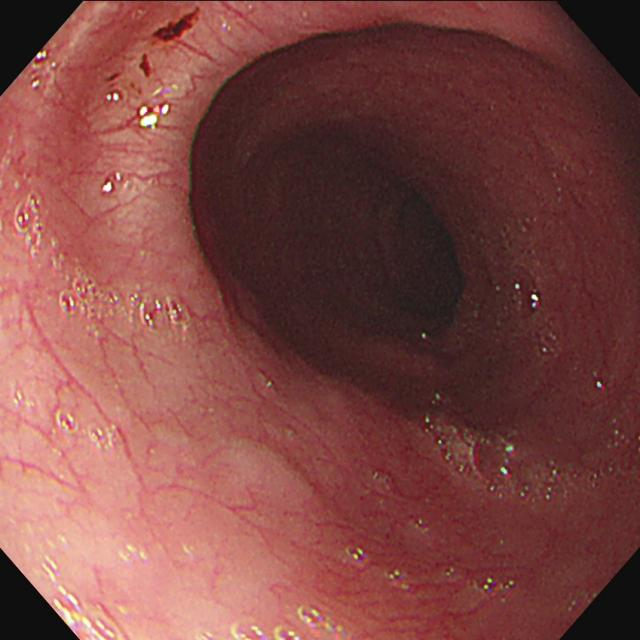D: (151, 7, 202, 46), (139, 53, 154, 79), (106, 71, 120, 82)
E: (388, 186, 482, 341)
T: (435, 427, 640, 506), (61, 268, 188, 335), (232, 605, 324, 640), (55, 407, 119, 452), (16, 195, 45, 255)
U: (44, 556, 117, 640), (138, 103, 171, 131)
